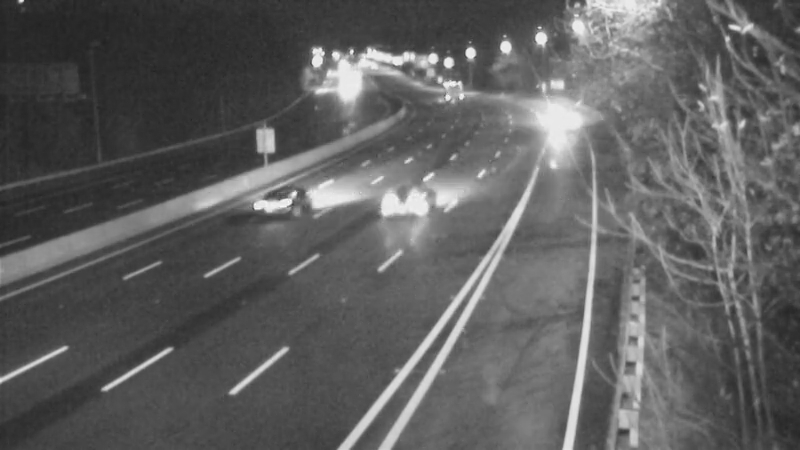vehicle: (364, 160, 444, 240), (419, 65, 469, 115), (531, 92, 581, 142), (323, 66, 373, 116)
